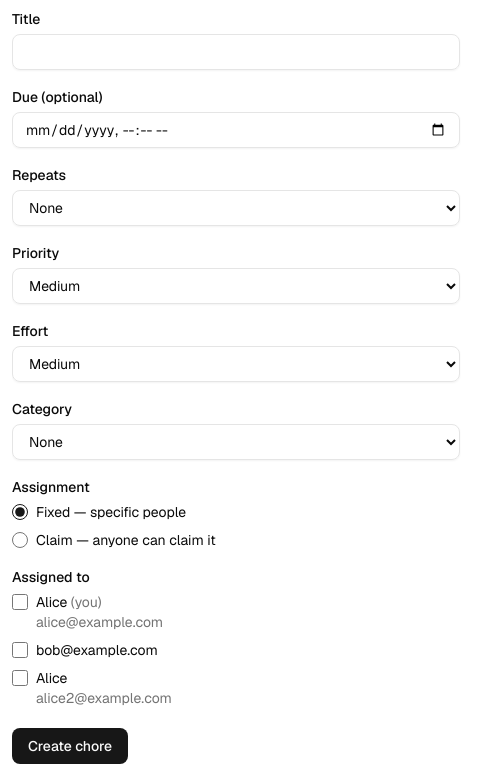
Test: ChoreForm recurrence and assignment › drops a refused member's tick, keeps the others and shows the message under the list
This screenshot has width=477, height=777.
Click the checkbox labelled "Alice (you) alice@example.com" at x=20, y=602, box [12, 594, 28, 610]
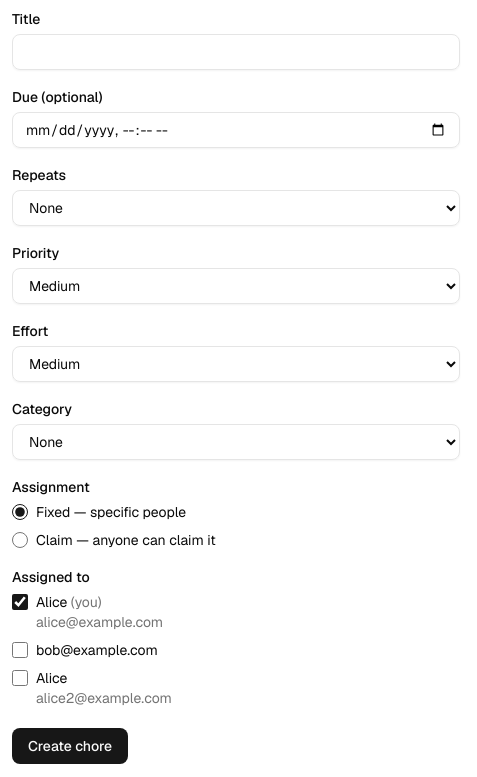
Click the checkbox labelled "bob@example.com" at x=20, y=650, box [12, 642, 28, 658]
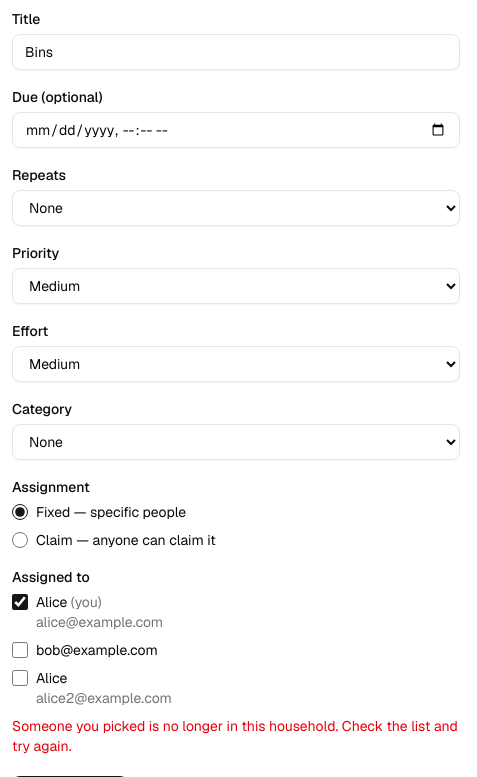
expect the message with id "assigneeIds-error" reads "Someone you picked is no longer in this household. Check the list and try again.": met, box [12, 717, 458, 755]
